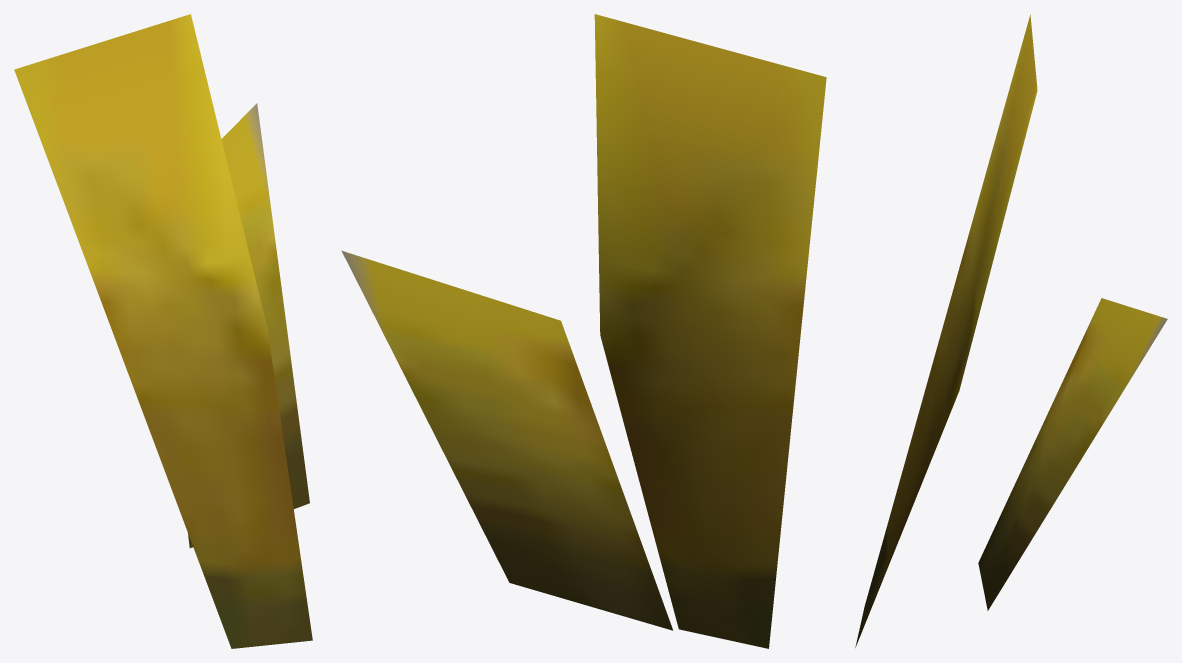
The model's file is fg_grassA.dae.
3 views of the same model, side by side, from view 1: azimuth 30°, elevation 25°; view 2: azimuth 150°, elevation 25°; view 3: azimuth 270°, elevation 25° (orthographic). The views are drawn at different scales.
Parts seen in each view (by area): view 1: fg_grassA; view 2: fg_grassA; view 3: fg_grassA.
Boxes of the visible parts, <box> form: fg_grassA: <box>14,14,312,648</box>; fg_grassA: <box>341,14,826,648</box>; fg_grassA: <box>855,14,1167,647</box>.
Bounding box in the file's own units: 11.97 × 20.54 × 10.68.
Materials: 1 (1 with a texture image).
